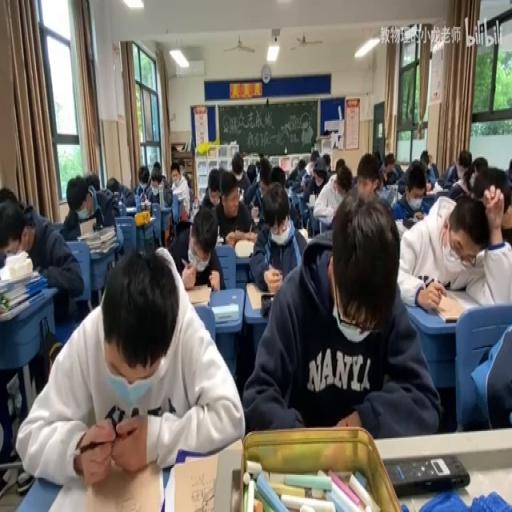calculator: (83, 455, 160, 509), (166, 451, 226, 512), (0, 289, 44, 320), (426, 288, 465, 322), (0, 266, 42, 291), (210, 301, 238, 323), (185, 283, 211, 304), (88, 240, 117, 256), (234, 238, 256, 256), (318, 214, 334, 234), (132, 215, 155, 226), (296, 226, 307, 240), (424, 186, 438, 196), (215, 234, 224, 244), (125, 205, 136, 213), (309, 193, 315, 205)
paper: (242, 190, 437, 440), (2, 184, 82, 484), (396, 180, 510, 308), (175, 206, 227, 292), (60, 174, 116, 240), (310, 158, 356, 229), (346, 154, 396, 219), (251, 168, 300, 234), (214, 169, 252, 243), (390, 161, 430, 222), (470, 165, 509, 210), (145, 161, 174, 219), (0, 201, 26, 253), (104, 171, 134, 212), (442, 149, 472, 189), (199, 166, 222, 210), (284, 152, 310, 185), (257, 158, 272, 190), (500, 196, 510, 232), (269, 165, 286, 186), (230, 154, 244, 179), (0, 185, 18, 203), (82, 172, 98, 192), (471, 155, 487, 174), (336, 178, 350, 198), (306, 152, 318, 174), (174, 218, 190, 234), (170, 161, 182, 182), (245, 162, 256, 184), (427, 162, 438, 184), (288, 184, 301, 200), (373, 148, 382, 171), (150, 170, 162, 186), (138, 170, 149, 186), (384, 155, 394, 172), (322, 154, 331, 172), (420, 154, 430, 169), (334, 156, 344, 170), (184, 174, 192, 188), (258, 150, 266, 164), (508, 156, 512, 182), (160, 175, 166, 186)
person: (386, 452, 470, 495), (259, 293, 273, 314), (402, 218, 418, 228), (414, 209, 424, 221), (112, 189, 118, 201)
